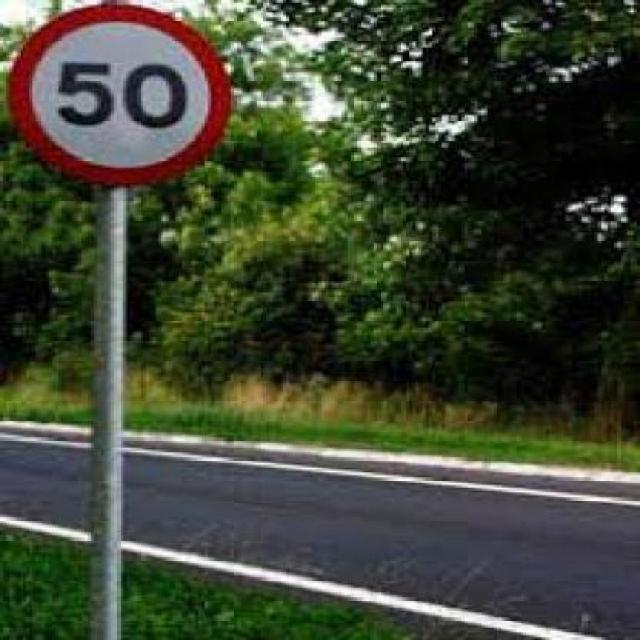forb_speed_over_50: (13, 3, 229, 182)
